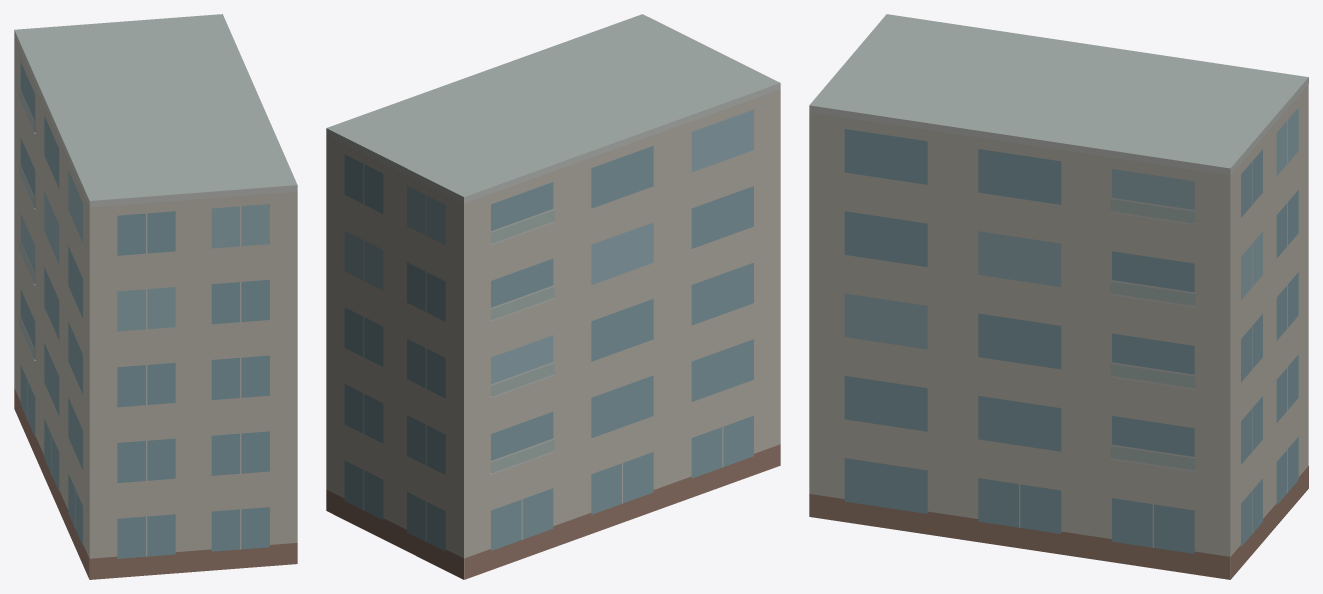
File: survey-upis-33047062.glb
3 views of the same model, side by side, from view 1: azimuth 30°, elevation 25°; view 2: azimuth 150°, elevation 25°; view 3: azimuth 270°, elevation 25° (orthographic). The views are drawn at different scales.
Parts seen in each view (by area): view 1: survey-upis-33047062.tmp; view 2: survey-upis-33047062.tmp; view 3: survey-upis-33047062.tmp.
Part boxes in pixels (box(x1,y1,x2,y2)): survey-upis-33047062.tmp: box(14, 14, 297, 579); survey-upis-33047062.tmp: box(326, 14, 780, 579); survey-upis-33047062.tmp: box(809, 14, 1308, 579).
Bounding box in the file's own units: 11.76 × 14.6 × 16.08.
